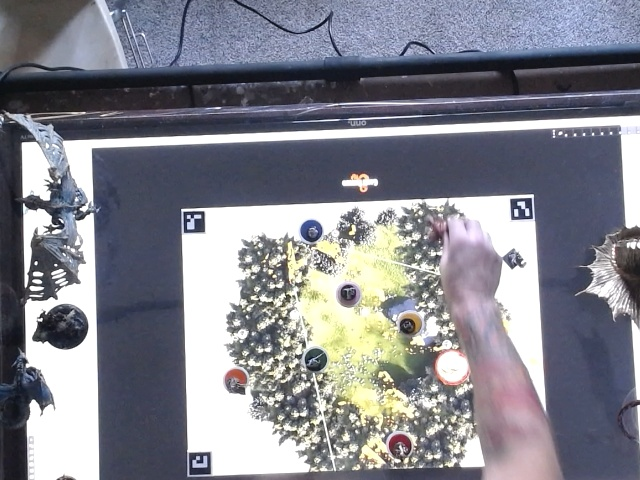blue: (298, 218, 327, 245)
green: (298, 344, 332, 374)
orange: (216, 359, 256, 395)
pink: (331, 279, 369, 309)
red: (381, 422, 417, 462)
yellow: (393, 307, 427, 338)
